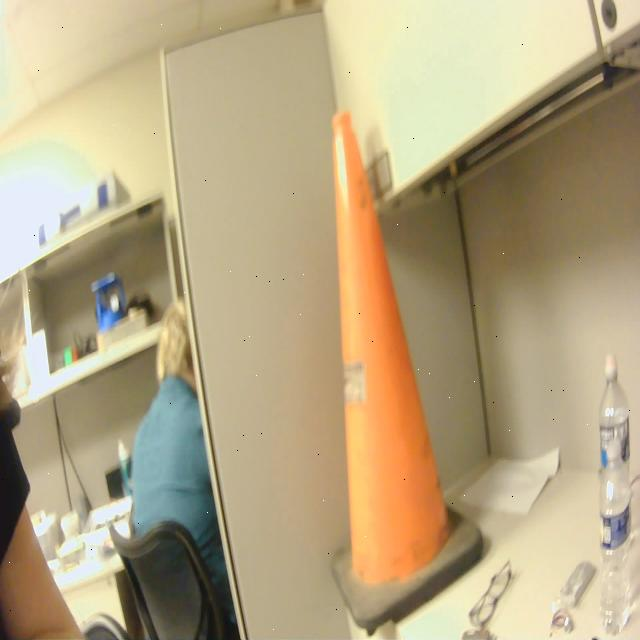traffic cone: (328, 103, 488, 640)
